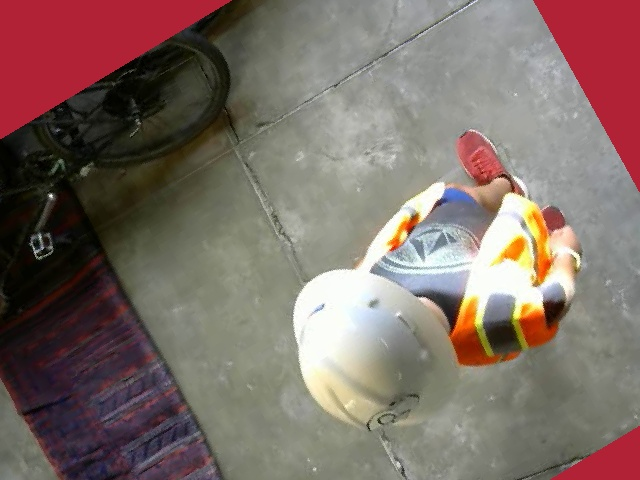eight: (358, 384, 423, 438)
